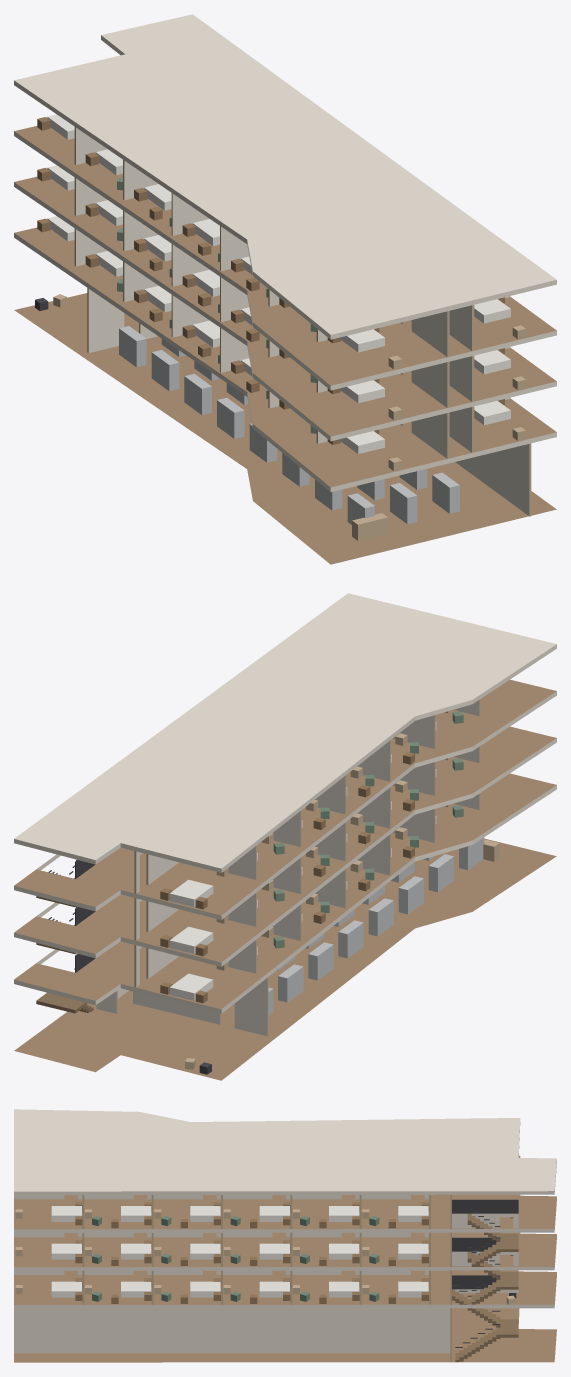
Rendered from interior.glb.
3 renders of one model, top to bottom at view 1: azimuth 30°, elevation 25°; view 2: azimuth 150°, elevation 25°; view 3: azimuth 270°, elevation 25°, orthographic. The views are drawn at different scales.
Visible parts, largest first — view 1: slabs, partitions, coarse-s0, coarse-s1, coarse-s2, coarse-s3; view 2: slabs, partitions, coarse-s0, coarse-s1, coarse-s2, coarse-s3, stair; view 3: slabs, partitions, stair, coarse-s2, coarse-s1, coarse-s3.
Part boxes in pixels (x1=…): slabs: x1=14, y1=14, x2=556, y2=564; partitions: x1=74, y1=127, x2=531, y2=516; coarse-s0: x1=35, y1=294, x2=459, y2=540; coarse-s1: x1=37, y1=216, x2=525, y2=470; coarse-s2: x1=37, y1=165, x2=525, y2=420; coarse-s3: x1=37, y1=114, x2=525, y2=369; slabs: x1=14, y1=593, x2=556, y2=1080; partitions: x1=96, y1=699, x2=480, y2=1036; coarse-s0: x1=185, y1=837, x2=499, y2=1074; coarse-s1: x1=160, y1=804, x2=463, y2=1003; coarse-s2: x1=160, y1=757, x2=463, y2=956; coarse-s3: x1=160, y1=710, x2=463, y2=909; stair: x1=36, y1=860, x2=95, y2=1013; slabs: x1=14, y1=1109, x2=556, y2=1362; partitions: x1=14, y1=1194, x2=518, y2=1362; stair: x1=452, y1=1199, x2=518, y2=1362; coarse-s2: x1=15, y1=1217, x2=513, y2=1265; coarse-s1: x1=15, y1=1255, x2=513, y2=1303; coarse-s3: x1=15, y1=1202, x2=428, y2=1228.
Size of the model in its own units: 12.81 by 12.45 by 35.77.
